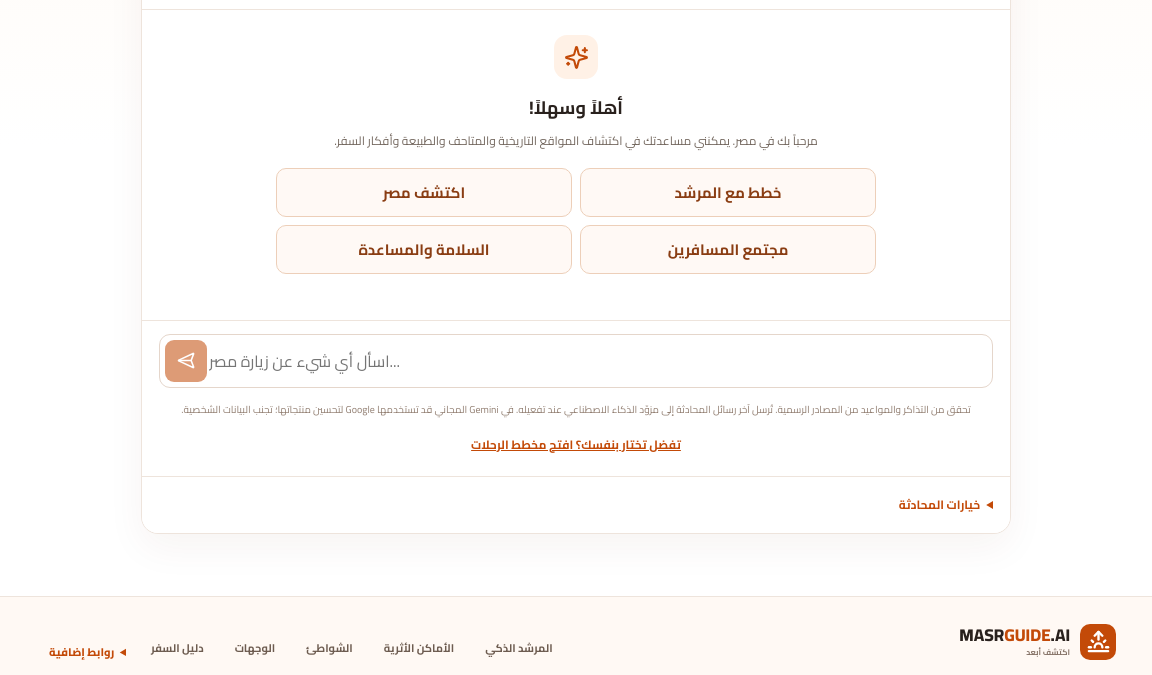
Test case: navigation and language › answers an English message in English while the site stays Arabic
This screenshot has width=1152, height=675.
(page scrolled)
Type "Tell me about Karnak" into the field named "اسأل المرشد السياحي". click: (592, 361)
box: [207,340,977,382]
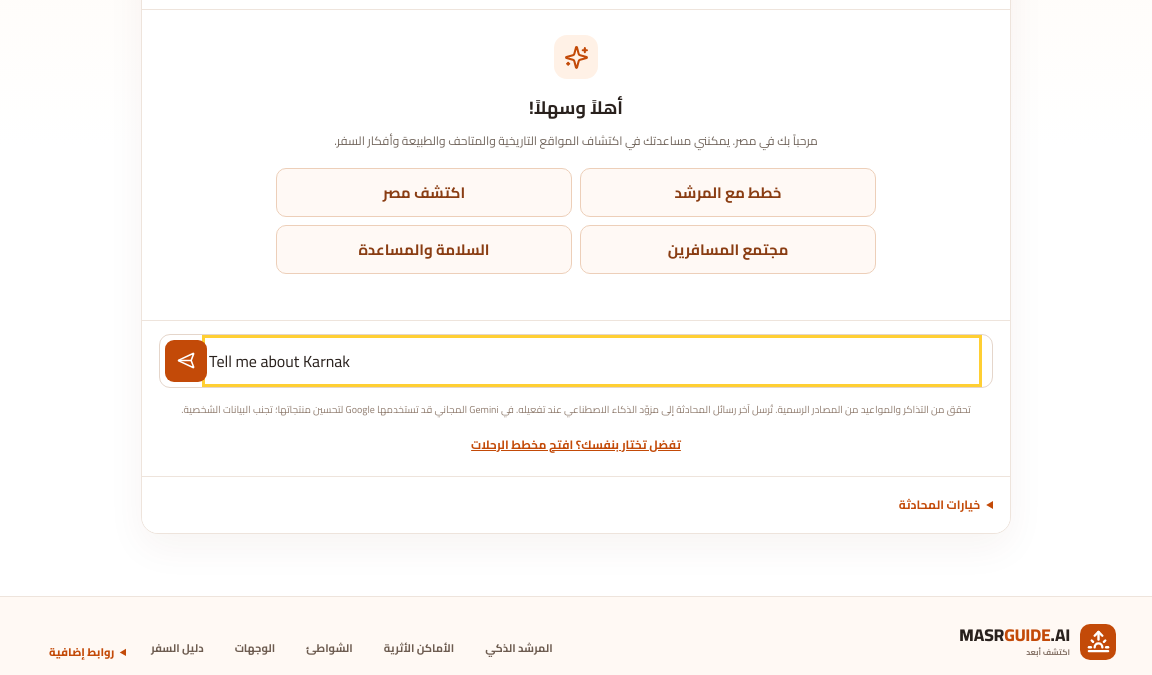
Click the button named "إرسال". click: (186, 361)
box: [165,340,207,382]
(page scrolled)
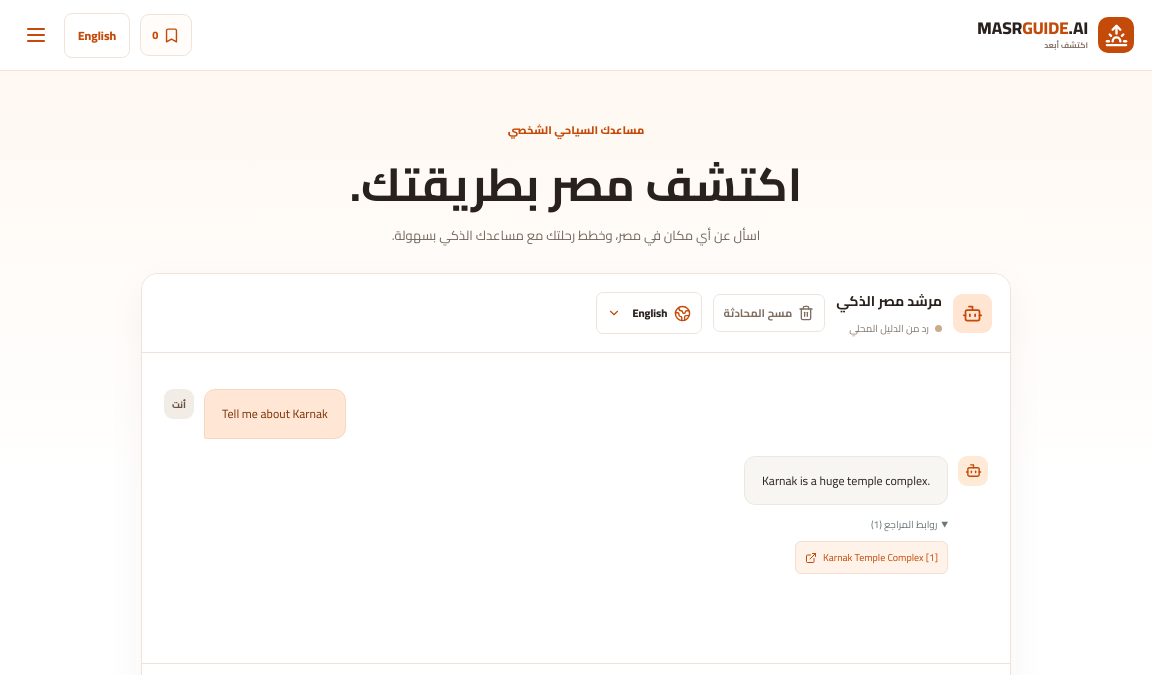
expect the button "English" is shown: met, box [64,12,130,58]
expect the dropdown named "لغة الرد" shows "English": met, box [626,303,668,323]
